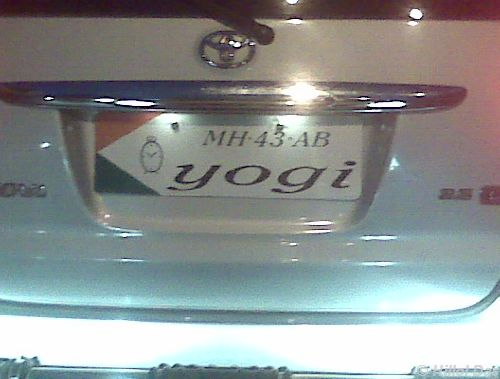number_plate: (89, 107, 367, 207)
